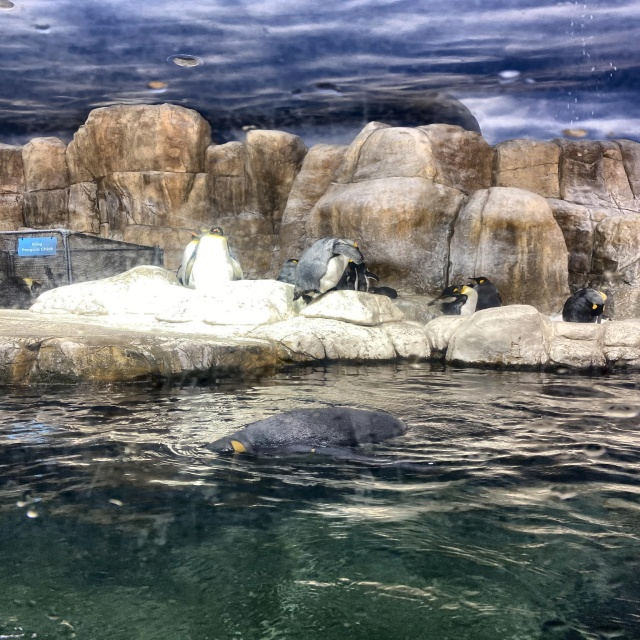penguin: (204, 406, 431, 470), (293, 238, 362, 304), (188, 225, 244, 289), (562, 287, 607, 322), (180, 230, 205, 286), (468, 275, 503, 310), (446, 282, 478, 315), (275, 258, 300, 282)
